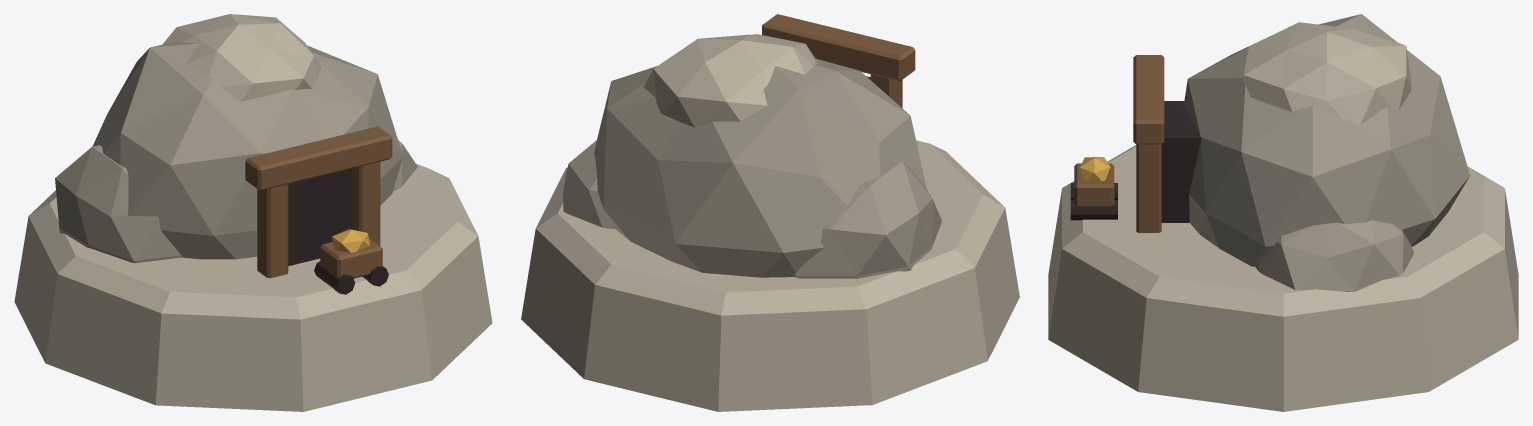
Rendered from ns-mine.glb.
3 views of the same model, side by side, from view 1: azimuth 30°, elevation 25°; view 2: azimuth 150°, elevation 25°; view 3: azimuth 270°, elevation 25° (orthographic). The views are drawn at different scales.
Visible parts, largest first — view 1: Tapered form; view 2: Tapered form; view 3: Tapered form.
Boxes of the visible parts, <box> form: Tapered form: <box>14,14,492,411</box>; Tapered form: <box>521,14,1019,411</box>; Tapered form: <box>1048,14,1518,411</box>.
Bounding box in the file's own units: 1.36 × 0.8454 × 1.29.
